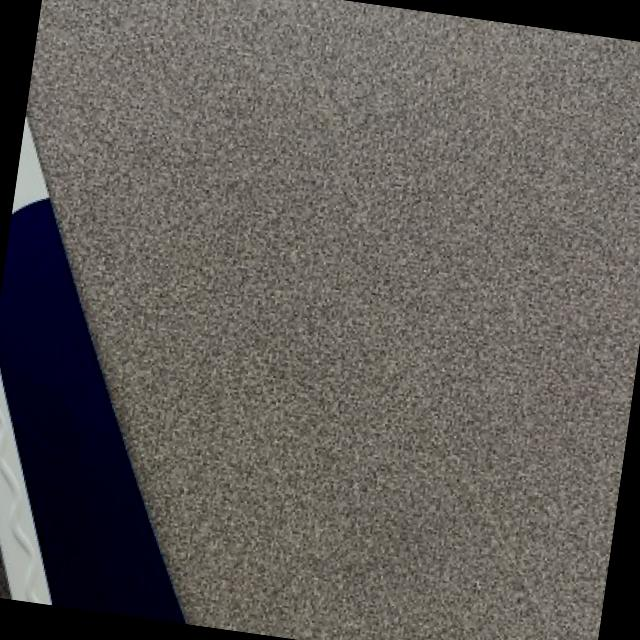healthy: (26, 0, 640, 640), (0, 117, 181, 621)
